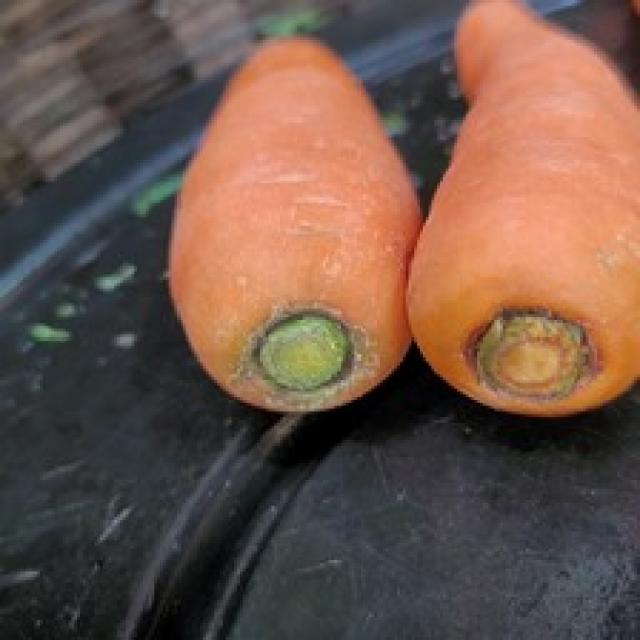carrot: (403, 0, 639, 419), (173, 32, 415, 413)
